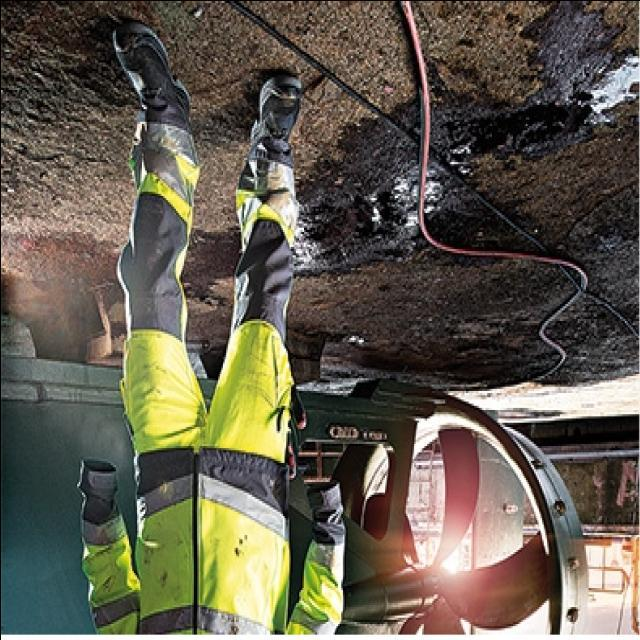shoes: (107, 13, 314, 200)
vest: (67, 443, 354, 637)
